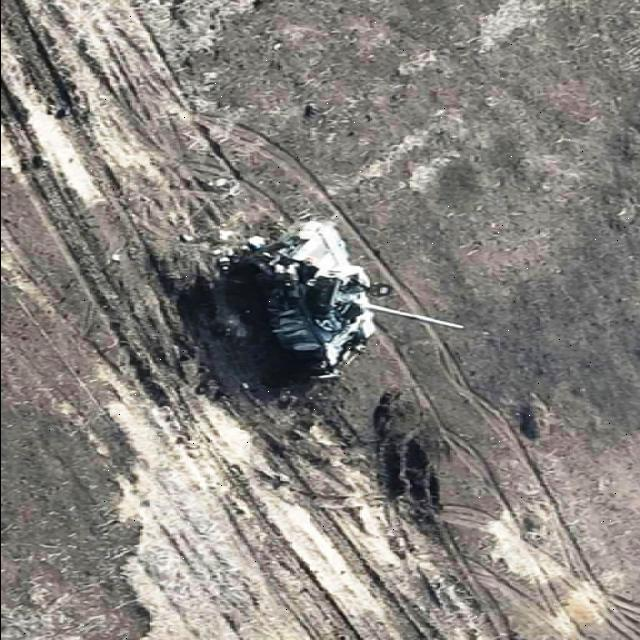TANK: (231, 219, 469, 380)
